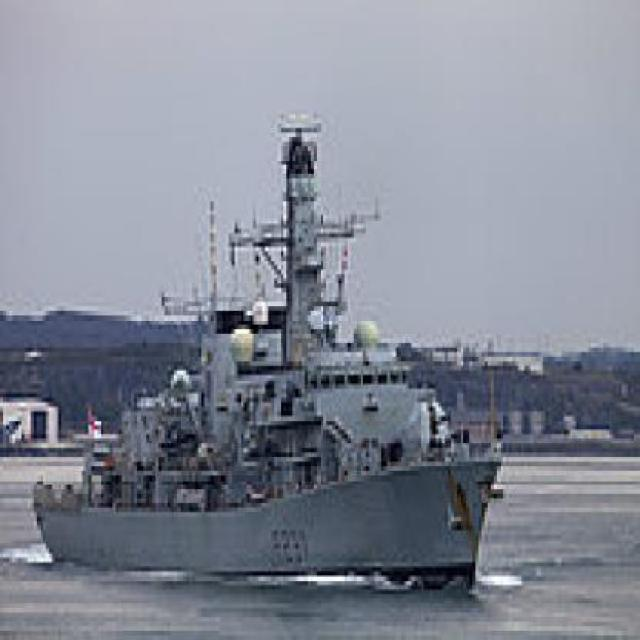warship2: (29, 93, 510, 596)
